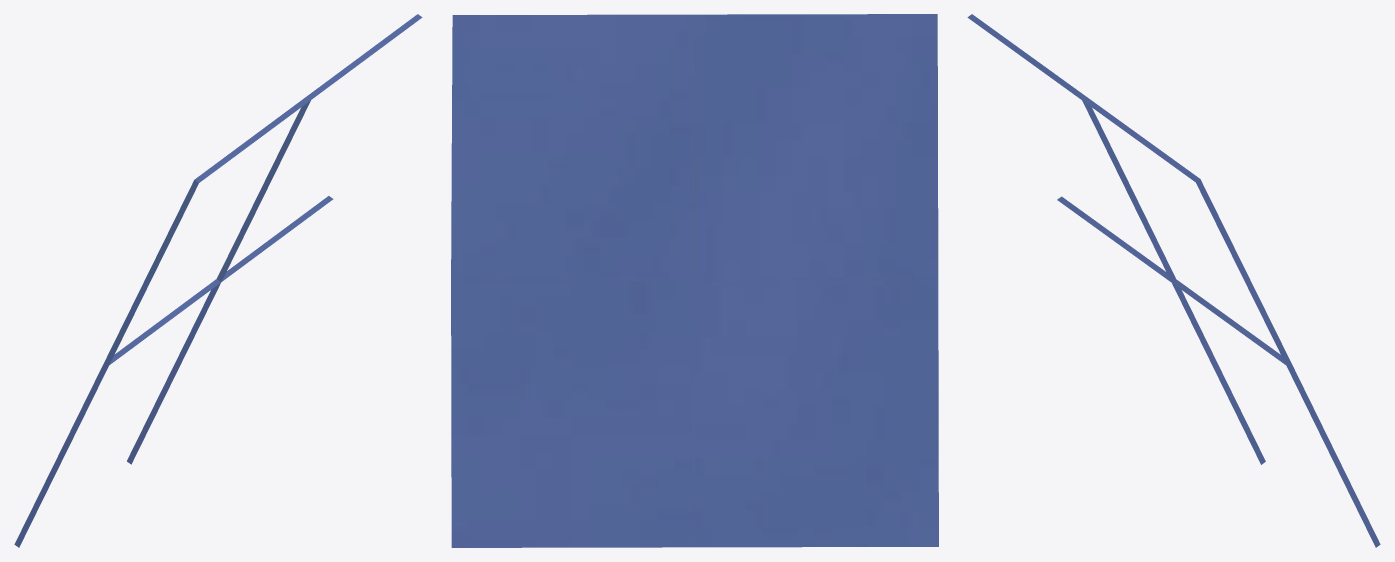
3 views of the same model, side by side, from view 1: azimuth 30°, elevation 25°; view 2: azimuth 150°, elevation 25°; view 3: azimuth 270°, elevation 25° (orthographic). The views are drawn at different scales.
Bounding box in the file's own units: 19652 × 17910 × 16309.
Materials: 1 (1 with a texture image).
